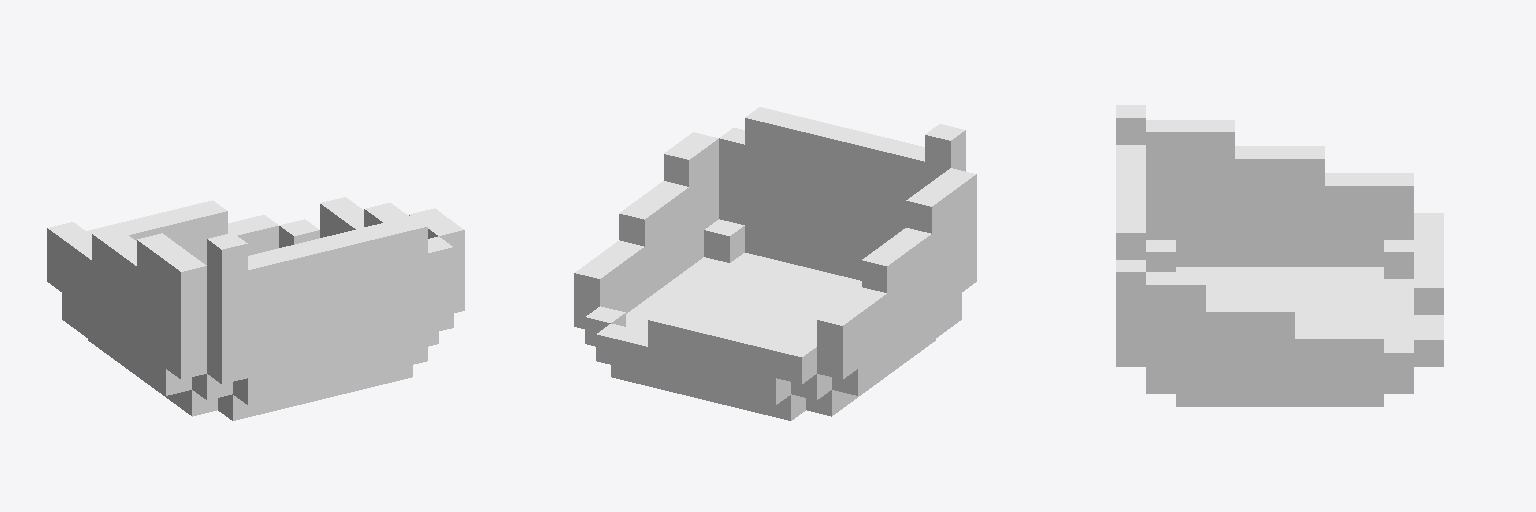
File: egg_heart_bottomhalf.obj
3 views of the same model, side by side, from view 1: azimuth 30°, elevation 25°; view 2: azimuth 150°, elevation 25°; view 3: azimuth 270°, elevation 25° (orthographic).
Visible parts, largest first — view 1: egg_heart_tophalf; view 2: egg_heart_tophalf; view 3: egg_heart_tophalf.
Part boxes in pixels (bbox=[...]): egg_heart_tophalf: bbox=[47, 197, 464, 420]; egg_heart_tophalf: bbox=[574, 107, 976, 420]; egg_heart_tophalf: bbox=[1116, 105, 1443, 406].
Size of the model in its own units: 1.1 by 0.7 by 1.1.